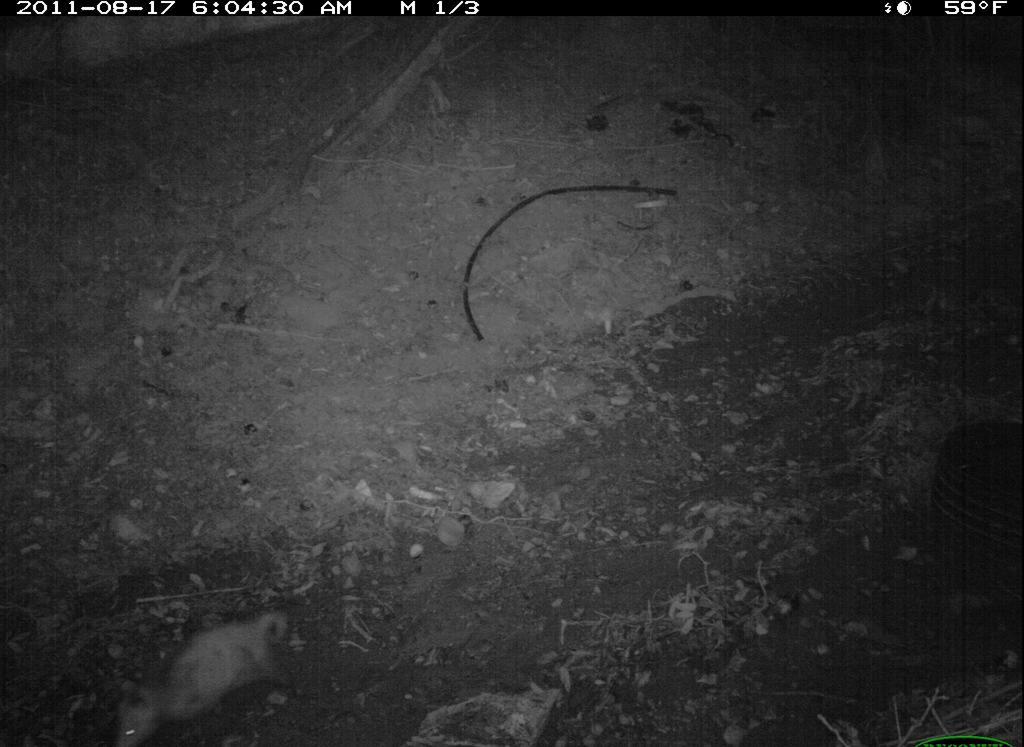opossum: (111, 607, 300, 747)
